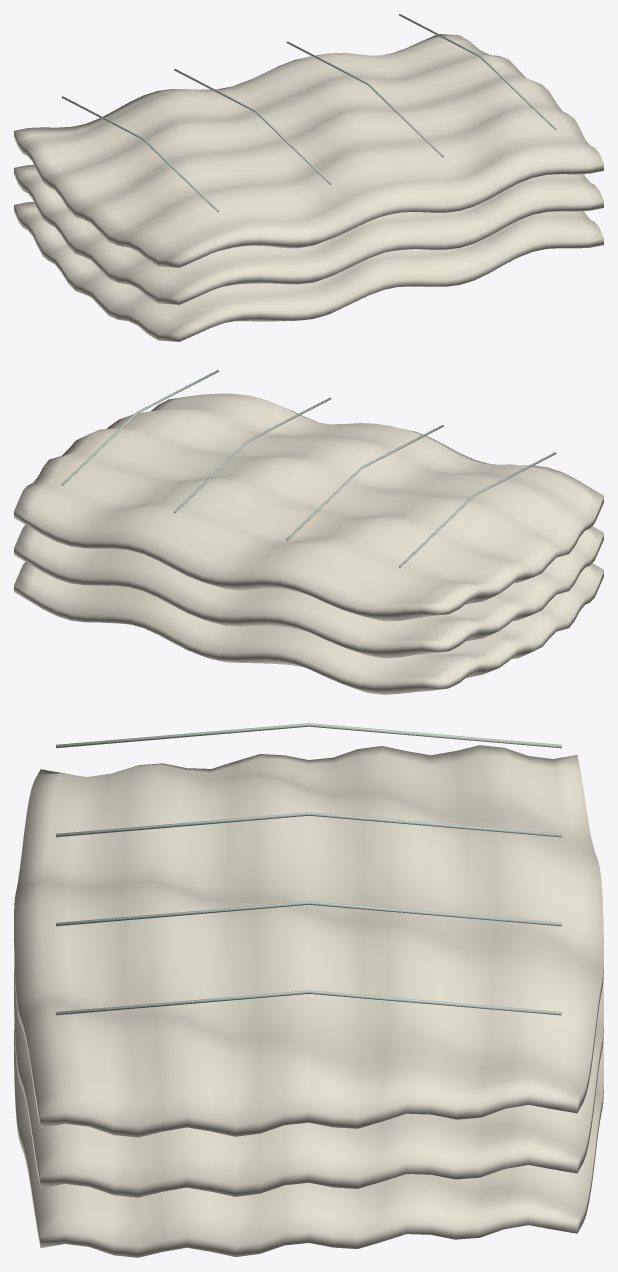
Rendered from folded_duvet.glb.
The picture shows the model from 3 angles, top to bottom: view 1: azimuth 30°, elevation 25°; view 2: azimuth 150°, elevation 25°; view 3: azimuth 270°, elevation 25°; orthographic projection. The views are drawn at different scales.
Parts seen in each view (by area): view 1: folded_duvet__body, folded_duvet__accent; view 2: folded_duvet__body, folded_duvet__accent; view 3: folded_duvet__body, folded_duvet__accent.
Part boxes in pixels (<box>): folded_duvet__body: <box>14,34,603,341</box>; folded_duvet__accent: <box>61,14,556,211</box>; folded_duvet__body: <box>14,393,603,694</box>; folded_duvet__accent: <box>61,370,556,567</box>; folded_duvet__body: <box>14,745,603,1257</box>; folded_duvet__accent: <box>56,723,561,1015</box>.
Bounding box in the file's own units: 0.83 × 0.2715 × 0.56.
